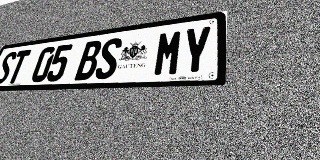0: (30, 46, 57, 83)
5: (45, 44, 73, 82)
B: (74, 40, 103, 80)
M: (152, 29, 184, 77)
S: (94, 37, 123, 80), (0, 51, 18, 84)
T: (5, 49, 31, 84)
Y: (180, 25, 212, 75)
